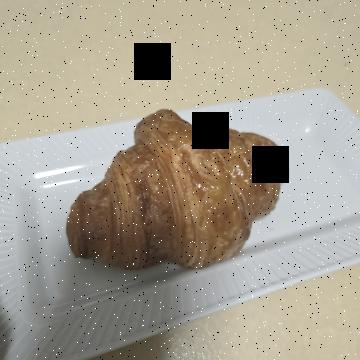croissant: (102, 70, 290, 307)
